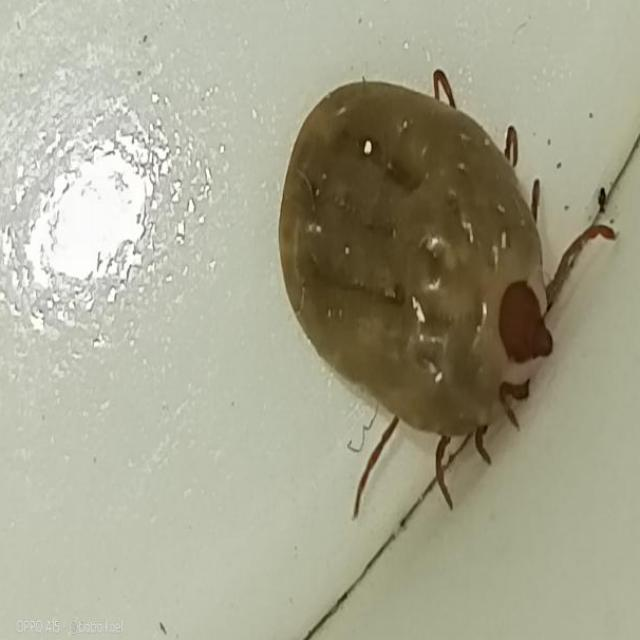Rhipicephalus Sanguineus-F-Fed: (279, 70, 621, 525)
